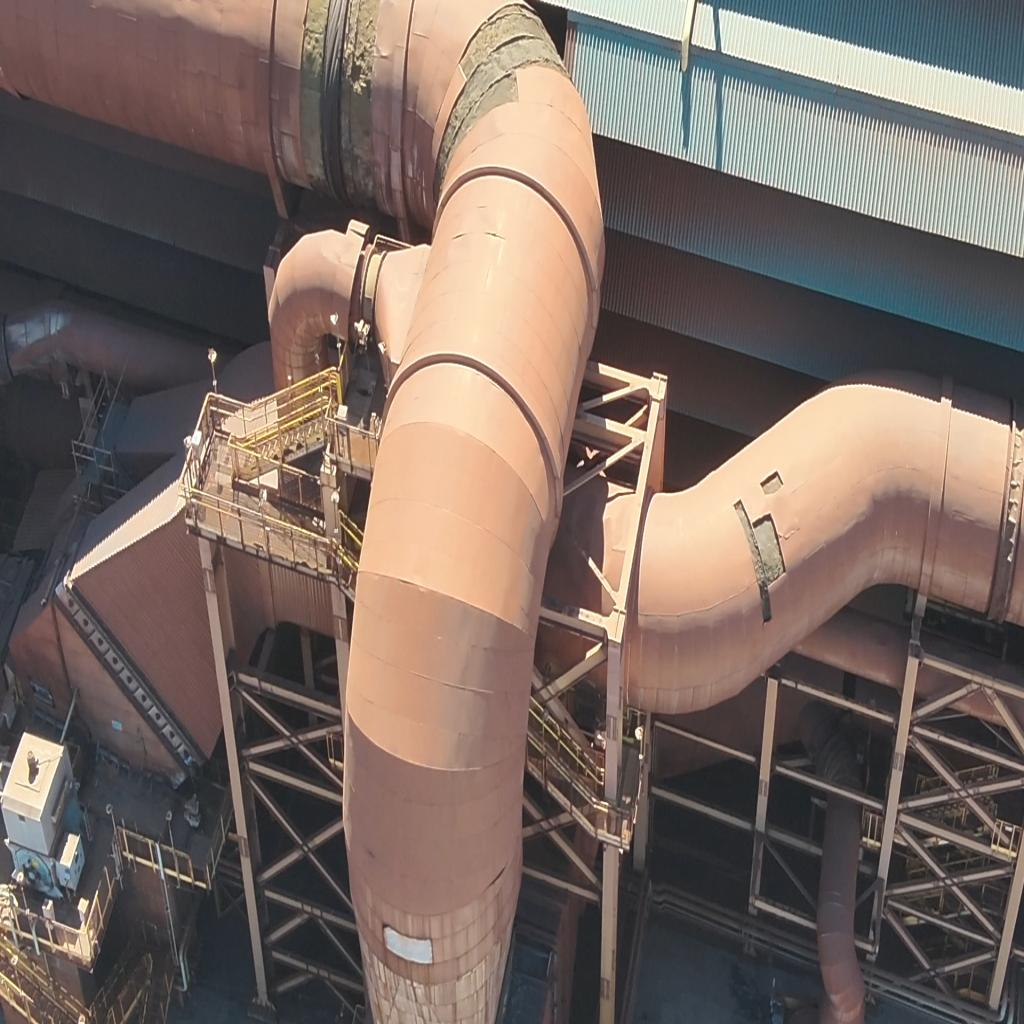Failures: (426, 8, 566, 201), (732, 494, 784, 634), (298, 0, 332, 198), (338, 8, 374, 194), (756, 464, 792, 500)
